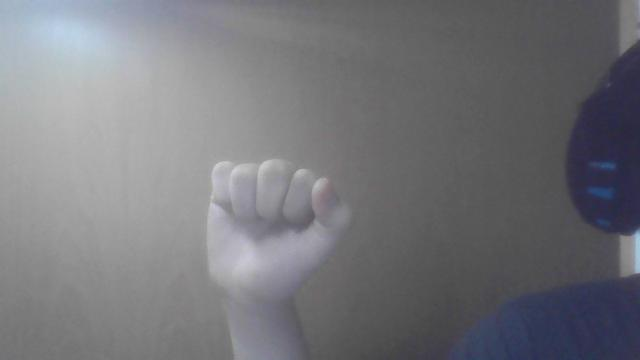forward: (205, 157, 352, 305)
